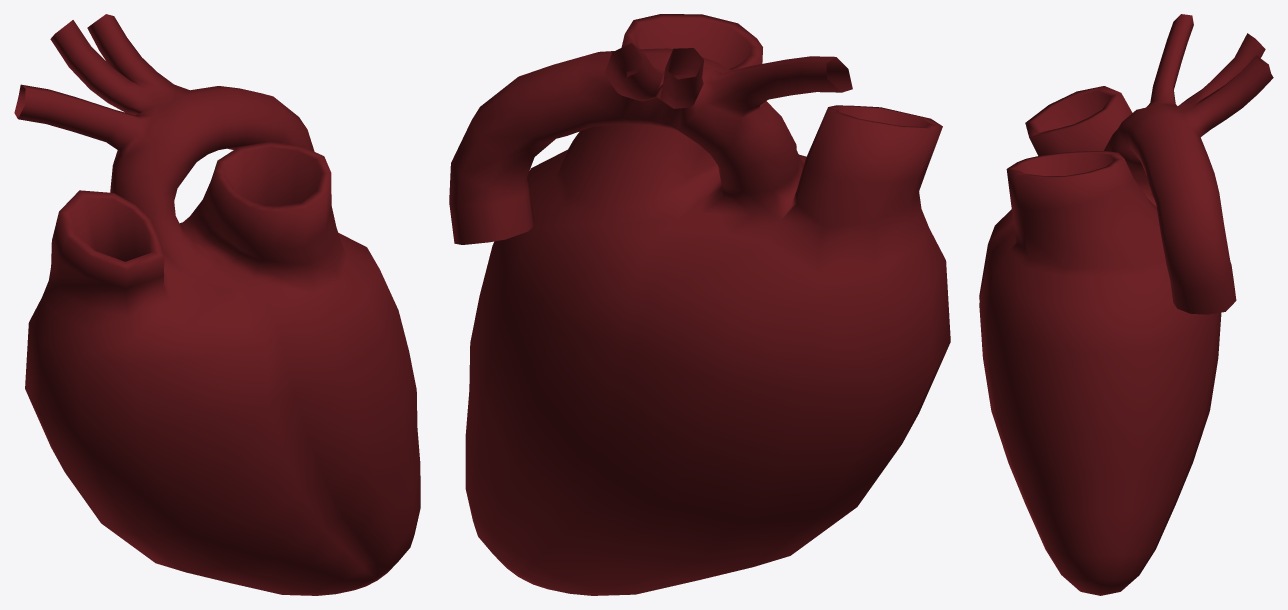
The model's file is heart.glb.
The picture shows the model from 3 angles, left to right: view 1: azimuth 30°, elevation 25°; view 2: azimuth 150°, elevation 25°; view 3: azimuth 270°, elevation 25°; orthographic projection. The views are drawn at different scales.
Visible parts, largest first — view 1: body; view 2: body; view 3: body.
Part boxes in pixels (x1,y1,x2,y2): body: (14,14,420,595); body: (449,14,950,595); body: (979,14,1273,595).
Size of what is drawn, in the model's own units: 2.01 by 2.8 by 1.57.
